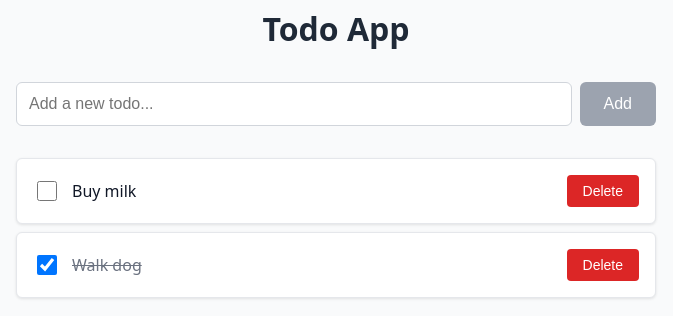
App › deletes todo and removes from list
Check: the text "Buy milk" is shown, box x1=72 y1=180 x2=136 y2=202
Click the button with test id "delete-button" in the row of "Buy milk": (603, 191) x1=566 y1=175 x2=639 y2=207
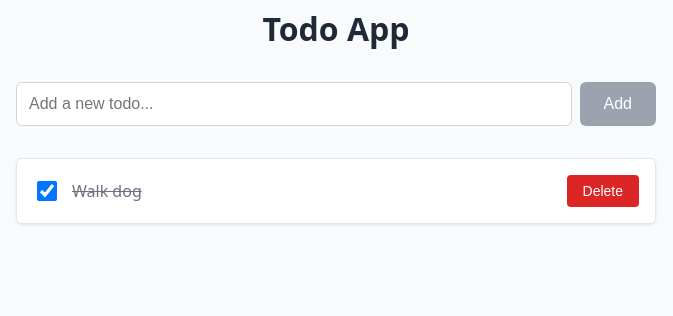
Check: the text "Buy milk" is gone
